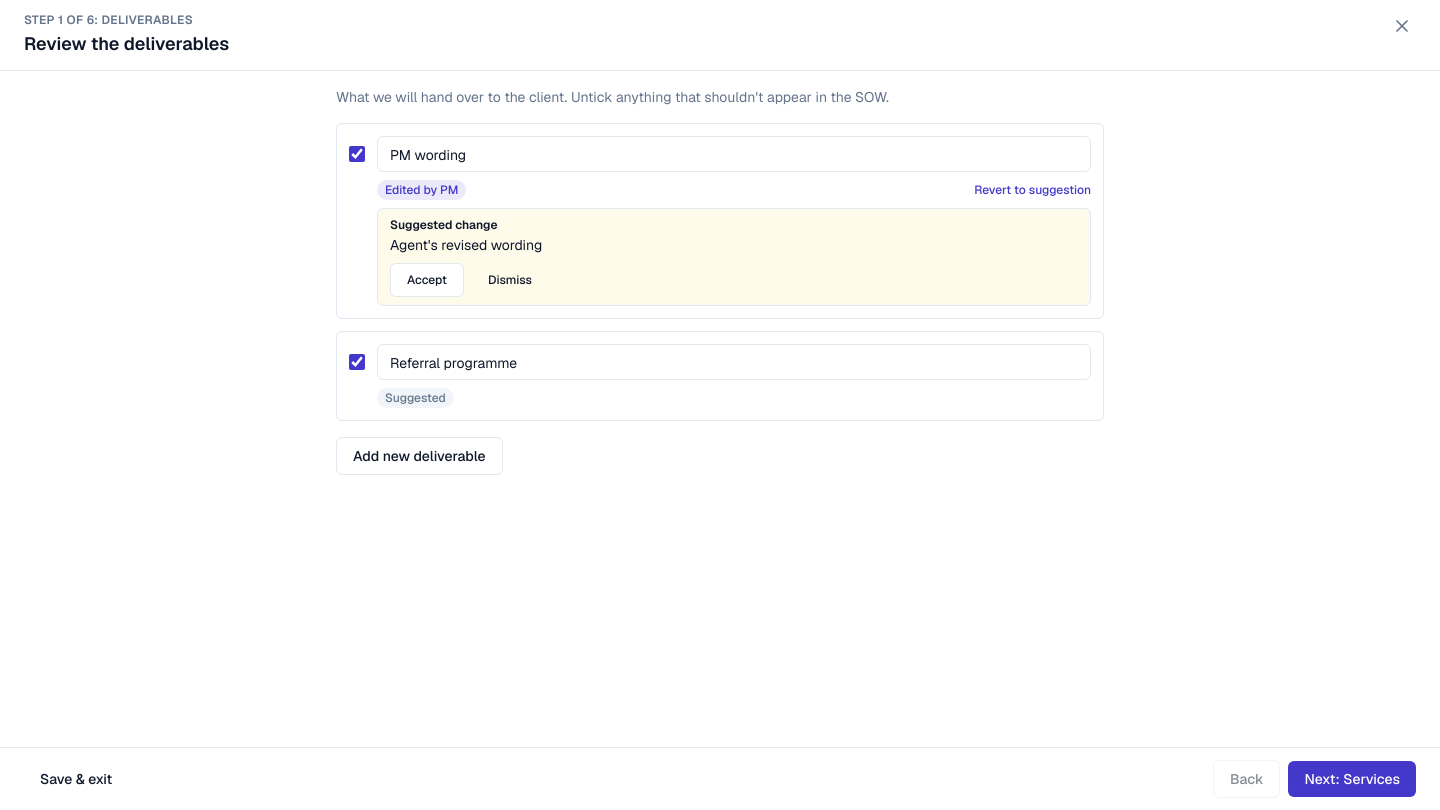
SowReviewOverlay — items and provenance › accepts or dismisses an agent-suggested change inline
This screenshot has width=1440, height=810.
Expected: the element with test id "pending-suggestion" shows "Agent's revised wording", [390, 236, 542, 254]
Click the button "Accept" at (427, 280), box [390, 263, 464, 297]
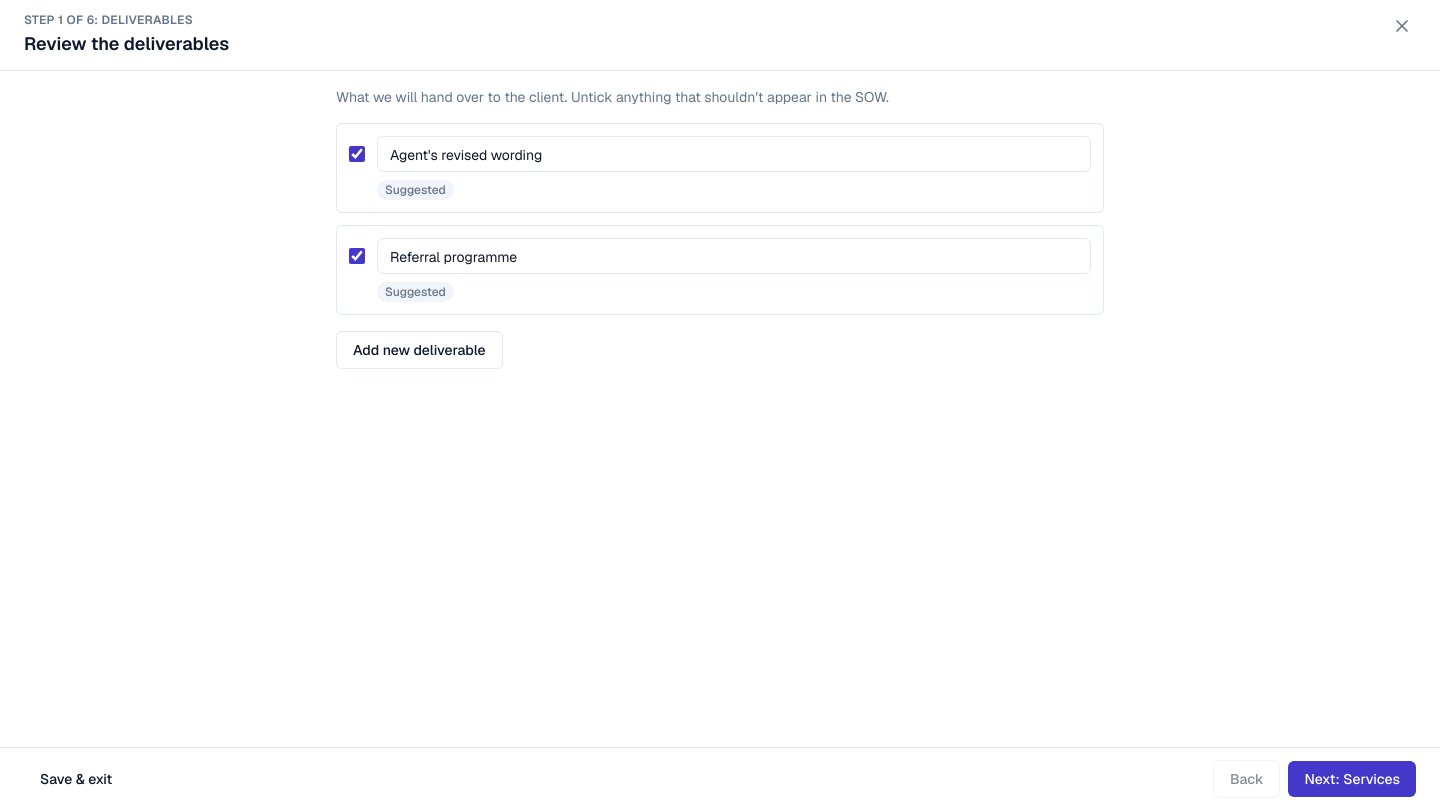
Now the element with test id "pending-suggestion" is gone
Now the text box showing "Agent's revised wording" is shown, box [377, 136, 1091, 172]
